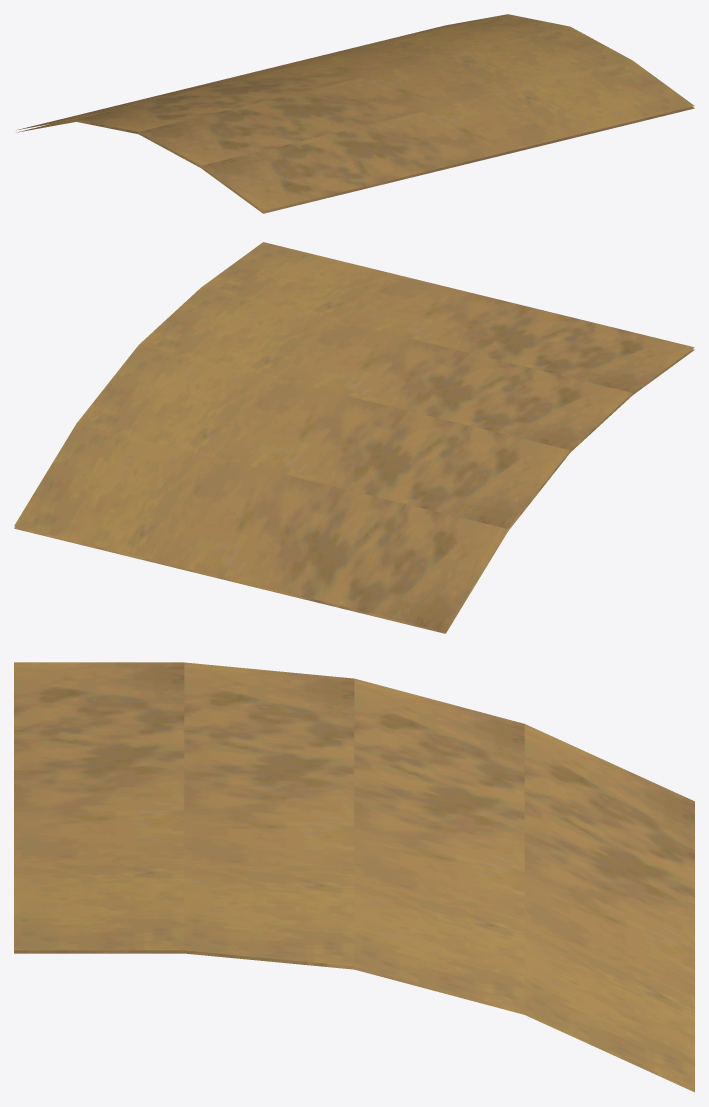
File: note_post_it_amy_open.dae
3 views of the same model, one above another, from view 1: azimuth 30°, elevation 25°; view 2: azimuth 150°, elevation 25°; view 3: azimuth 270°, elevation 25° (orthographic). The views are drawn at different scales.
Parts seen in each view (by area): view 1: polySurface1; view 2: polySurface1; view 3: polySurface1.
Part boxes in pixels (x1,y1,x2,y2): polySurface1: [16, 14, 694, 213]; polySurface1: [14, 242, 694, 633]; polySurface1: [14, 662, 694, 1092].
Bounding box in the file's own units: 0.12 × 0.0277 × 0.12.
